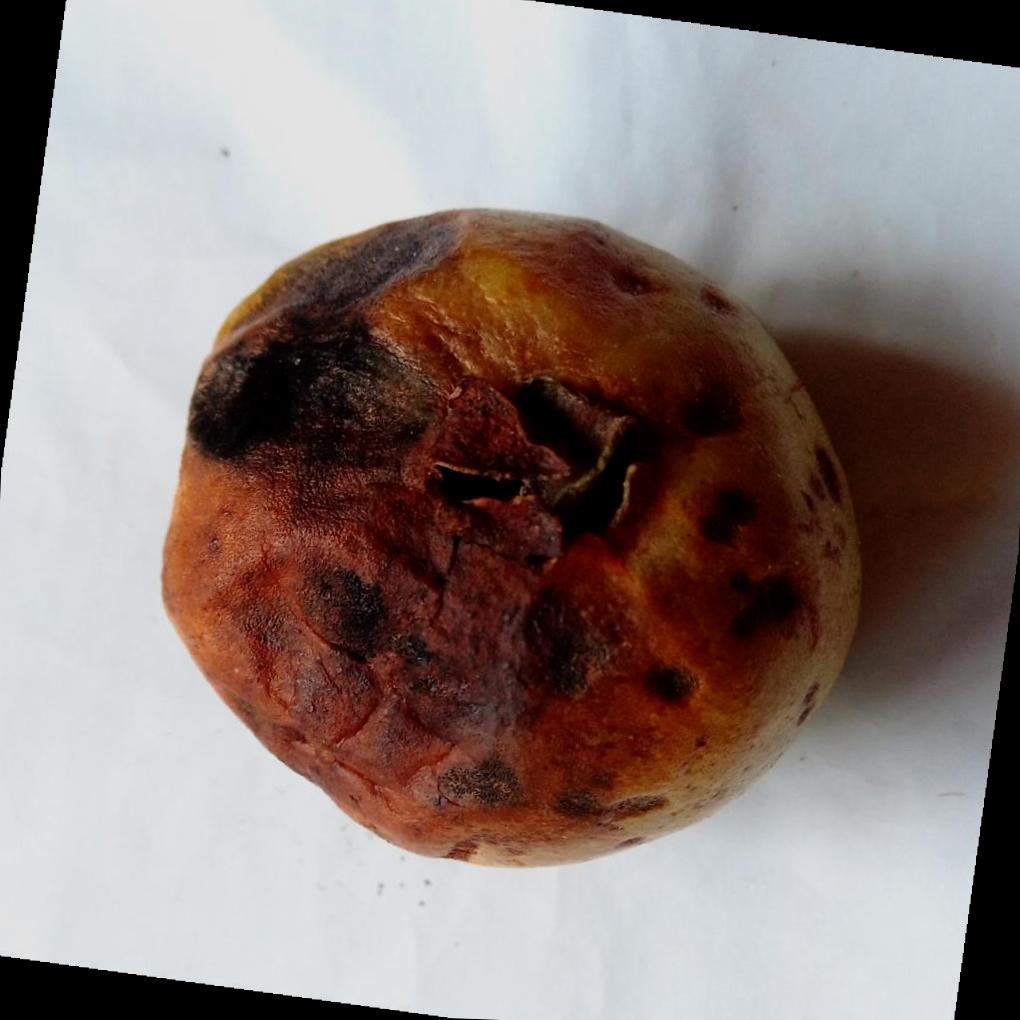FreshOrange: (159, 209, 865, 874)
